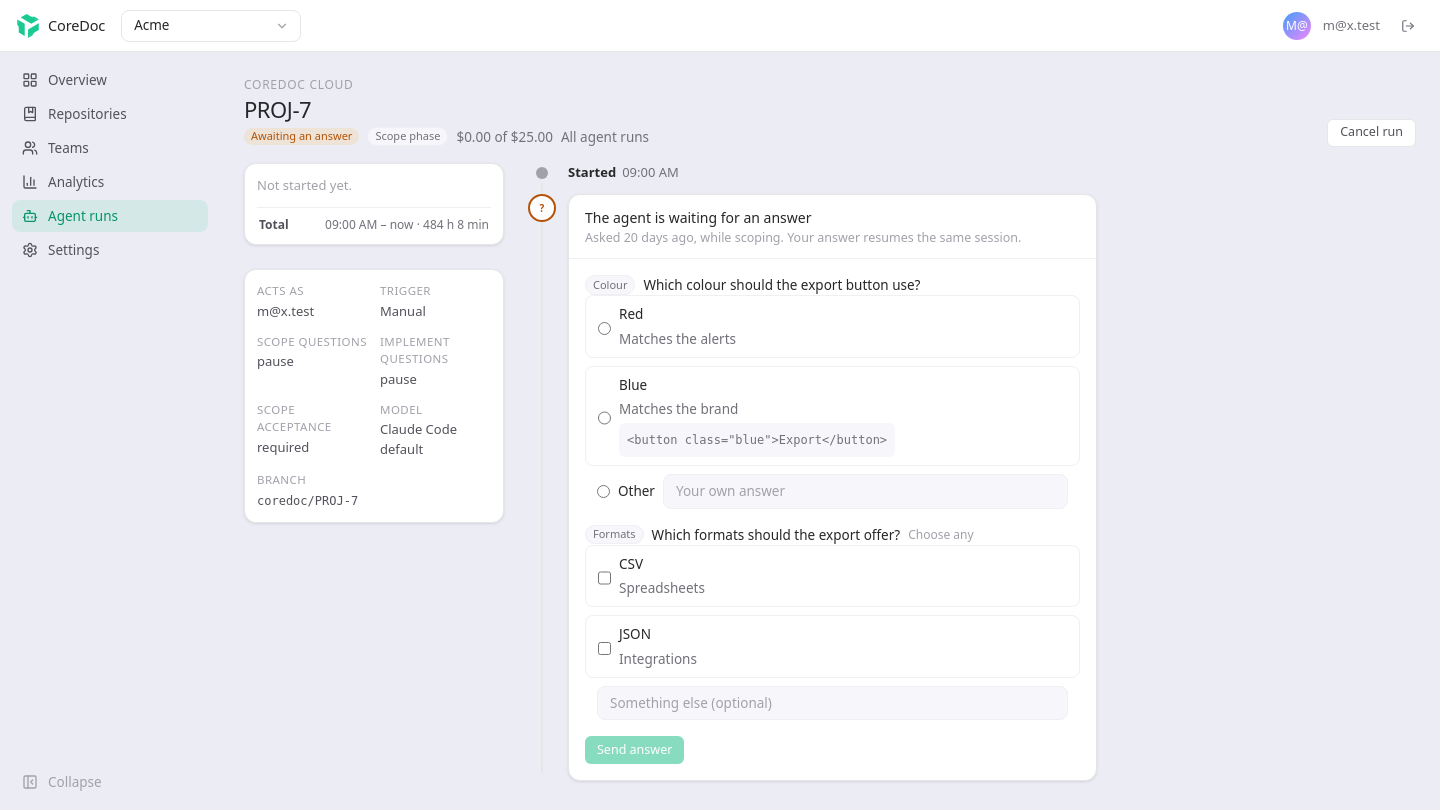
agent runs routes › questions › says so when someone else answered first
The image size is (1440, 810).
Click the radio button labelled "Red Matches the alerts". click: [604, 329]
box: [598,308,611,349]
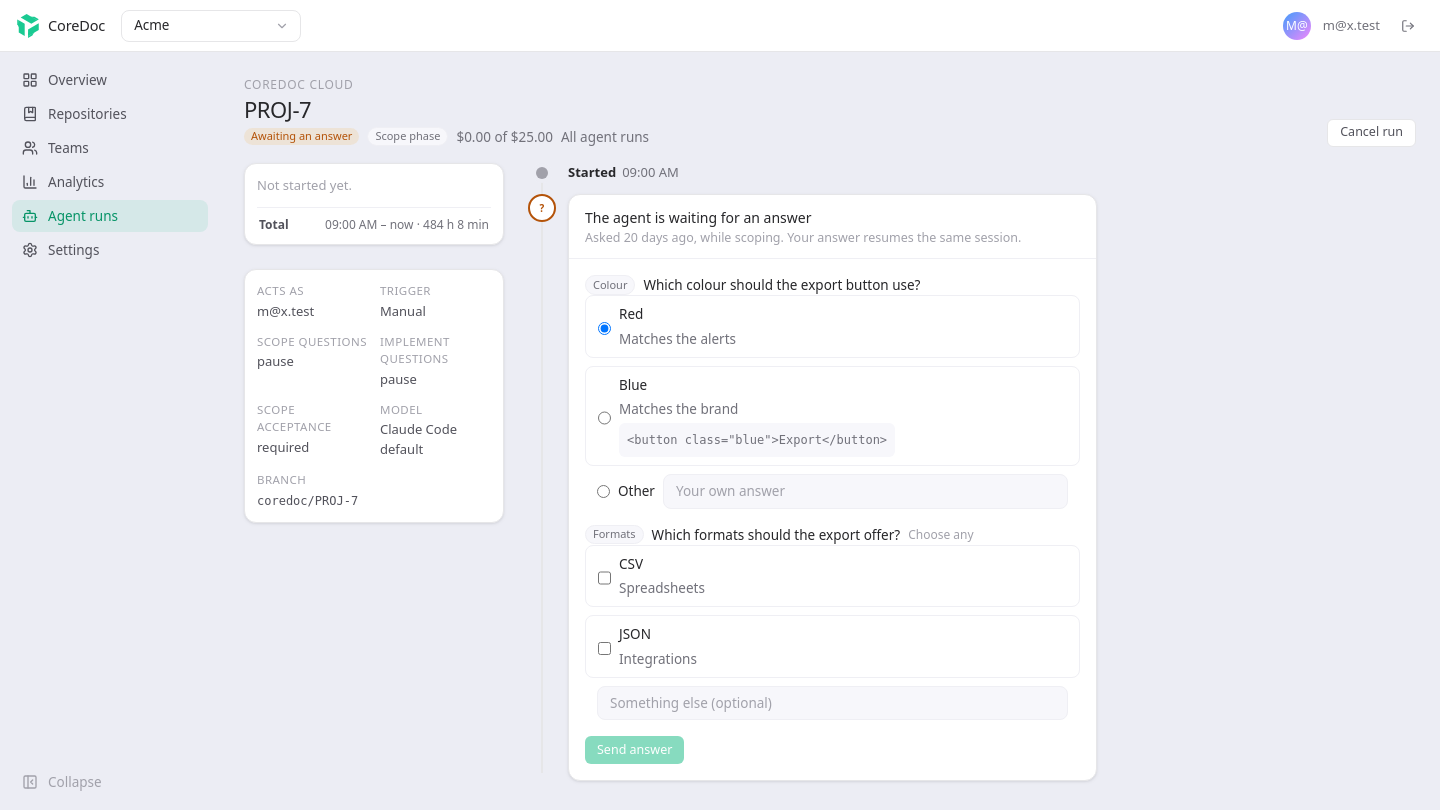
Click the checkbox labelled "CSV Spreadsheets". click: [604, 578]
box: [598,558,611,598]
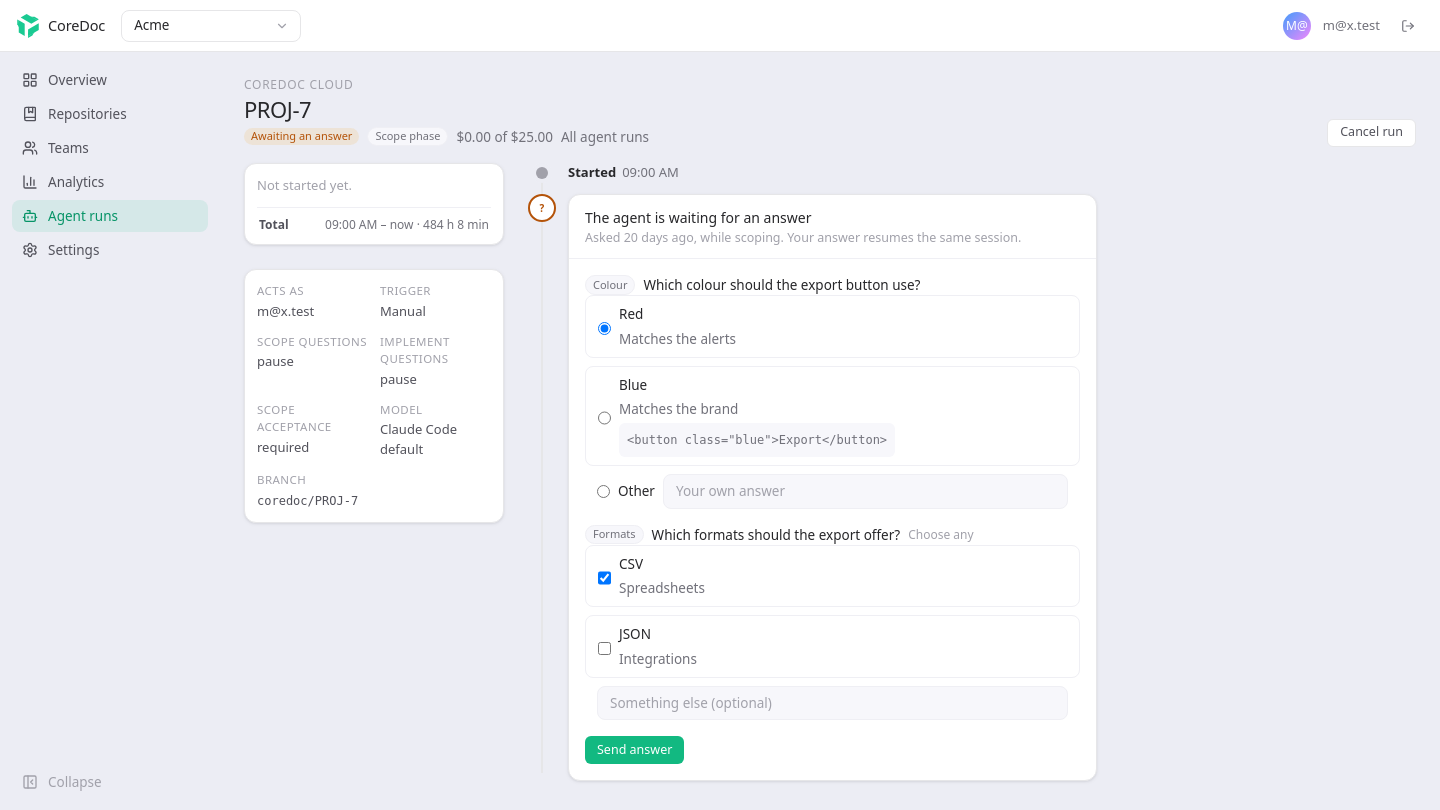
Click the button "Send answer". click: [635, 750]
box: [585,736,684,764]
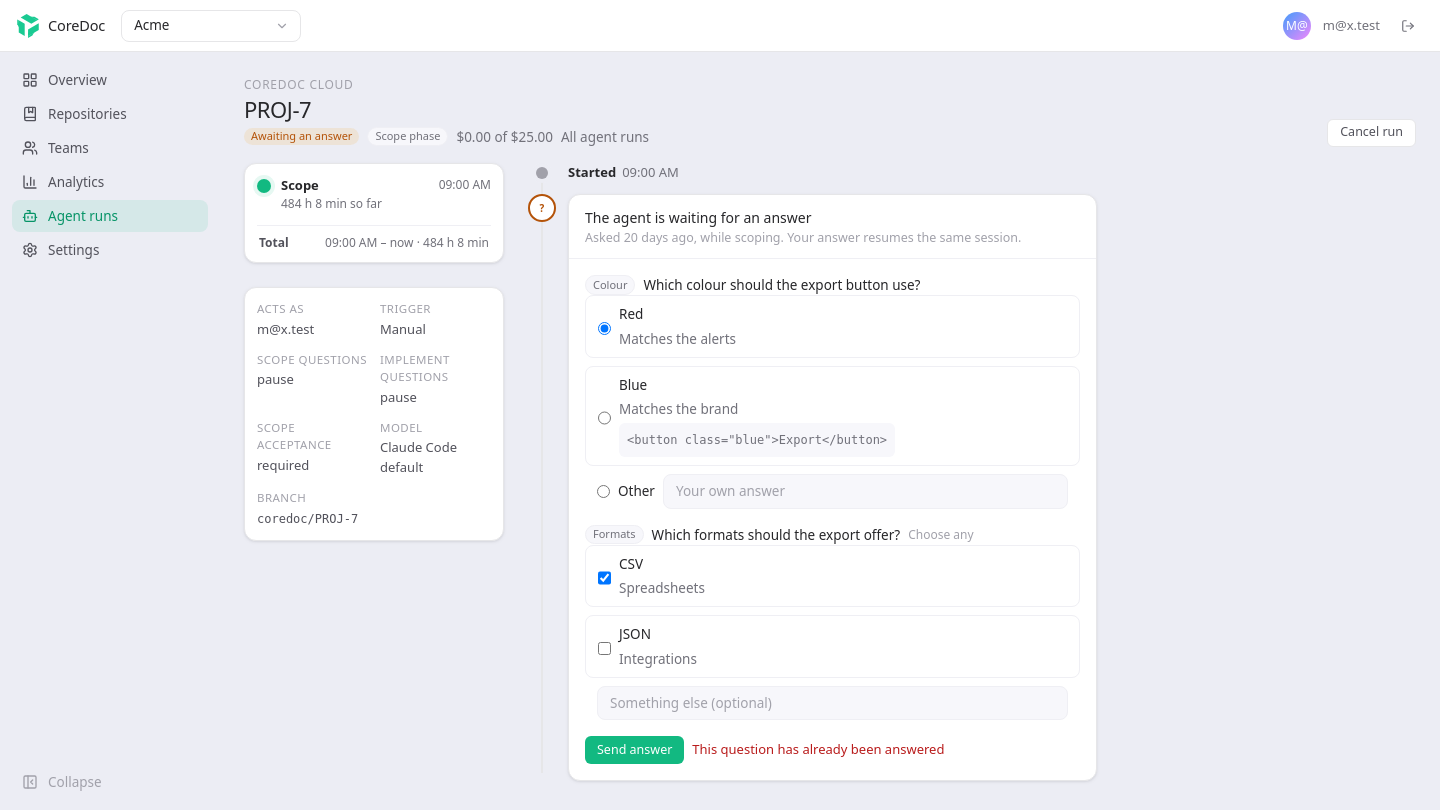
Check: the text "This question has already been answered" is shown, box [692,740,944,760]
